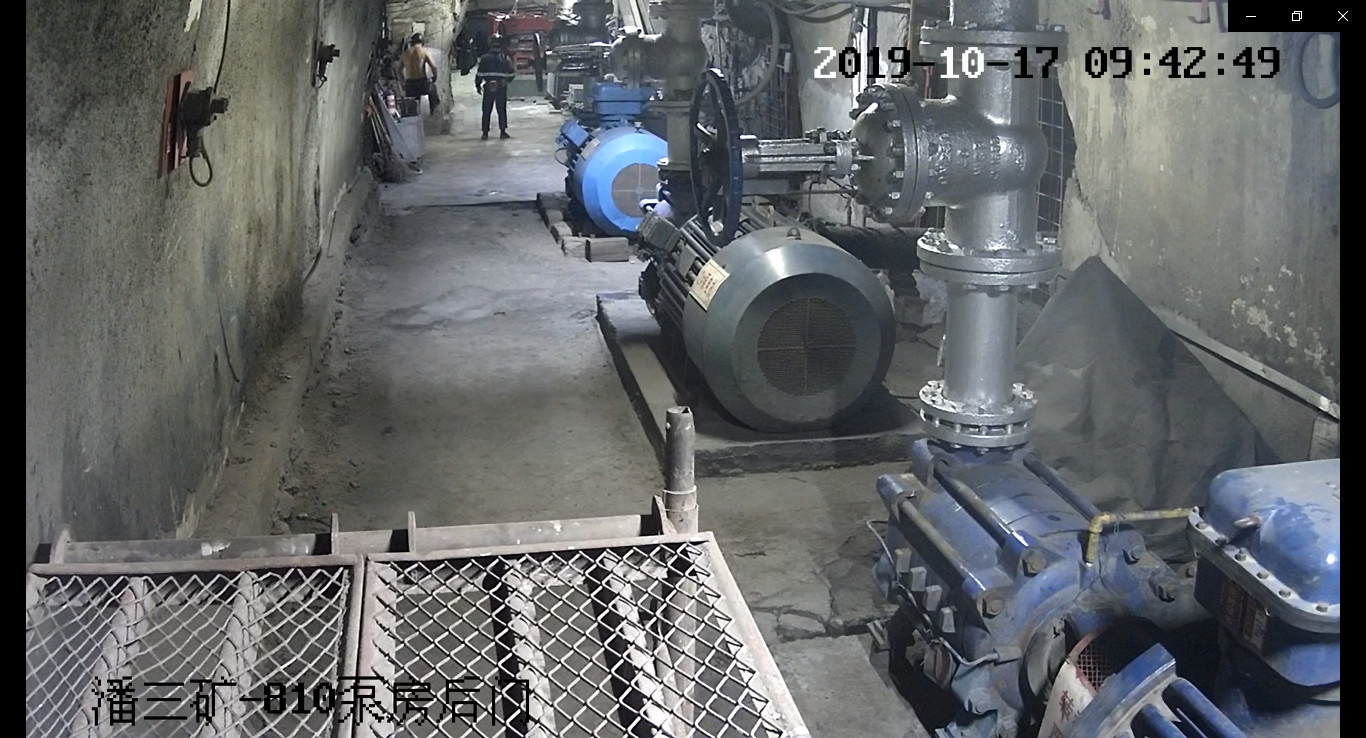helmet: (487, 32, 503, 43), (410, 33, 425, 43)
